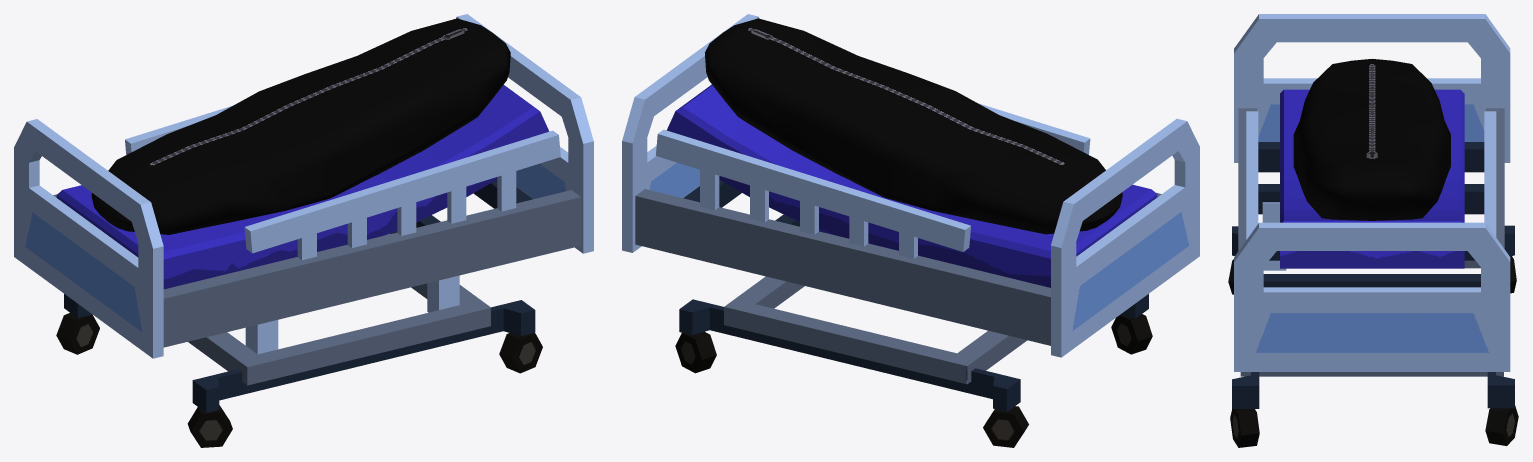
Rendered from medicalBed.obj.
3 renders of one model, left to right at view 1: azimuth 30°, elevation 25°; view 2: azimuth 150°, elevation 25°; view 3: azimuth 270°, elevation 25°, orthographic.
Visible parts, largest first — view 1: Cube.014, Cube.002, Cube.003, Cube.005, Cube.009, Cube.001, Cube.006, Cube.007, Cylinder.001, Cylinder.003, Cylinder, Cube.008 (+6 smaller); view 2: Cube.014, Cube.011, Cube.003, Cube.005, Cube.001, Cube.026, Cube.006, Cube.028, Cylinder.003, Cylinder.002, Cylinder.001, Cube.009 (+3 smaller); view 3: Cube.006, Cube.014, Cube.003, Cube.005, Cube.012, Cube.009, Cube.026, Cube.001, Cube.015, Cube.002, Cube.011, Cube.028 (+5 smaller).
Part boxes in pixels (left/top/right/bottom): Cube.014: left=91, top=18, right=510, bottom=234; Cube.002: left=163, top=190, right=580, bottom=347; Cube.003: left=14, top=119, right=163, bottom=358; Cube.005: left=56, top=84, right=549, bottom=289; Cube.009: left=244, top=130, right=560, bottom=253; Cube.001: left=188, top=233, right=491, bottom=385; Cube.006: left=456, top=14, right=593, bottom=253; Cube.007: left=192, top=300, right=535, bottom=412; Cylinder.001: left=187, top=405, right=232, bottom=447; Cylinder.003: left=56, top=313, right=99, bottom=354; Cylinder: left=499, top=333, right=542, bottom=373; Cube.008: left=427, top=275, right=459, bottom=312; Cube.014: left=705, top=18, right=1122, bottom=234; Cube.011: left=635, top=189, right=1050, bottom=345; Cube.003: left=1051, top=118, right=1199, bottom=357; Cube.005: left=666, top=84, right=1157, bottom=287; Cube.001: left=724, top=276, right=1026, bottom=384; Cube.026: left=655, top=129, right=970, bottom=251; Cube.006: left=622, top=14, right=759, bottom=252; Cube.028: left=679, top=299, right=1020, bottom=411; Cylinder.003: left=983, top=406, right=1028, bottom=447; Cylinder.002: left=675, top=331, right=716, bottom=373; Cylinder.001: left=1111, top=314, right=1152, bottom=354; Cube.009: left=978, top=103, right=1090, bottom=154; Cube.006: left=1234, top=222, right=1510, bottom=371; Cube.014: left=1293, top=58, right=1450, bottom=220; Cube.003: left=1234, top=14, right=1510, bottom=162; Cube.005: left=1280, top=89, right=1464, bottom=268; Cube.012: left=1263, top=274, right=1480, bottom=287; Cube.009: left=1246, top=111, right=1258, bottom=239; Cube.026: left=1484, top=111, right=1496, bottom=237; Cube.001: left=1240, top=260, right=1503, bottom=376; Cube.015: left=1258, top=142, right=1484, bottom=172; Cube.002: left=1238, top=108, right=1257, bottom=250; Cube.011: left=1485, top=108, right=1504, bottom=248; Cube.028: left=1487, top=225, right=1514, bottom=408.
Size of the model in its own units: 6.25 by 3.94 by 3.59.
